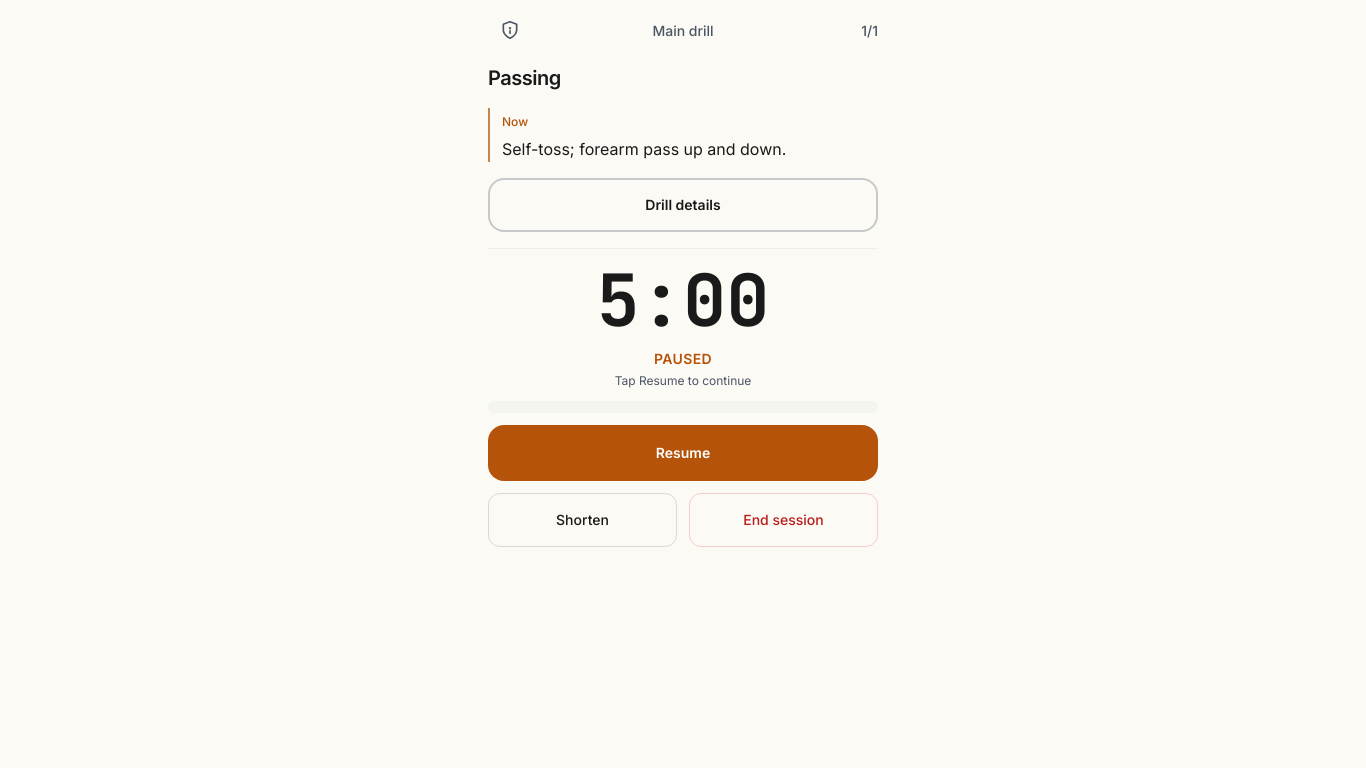
RunScreen: Run Face cue detail › long cue: keeps one live cue and exposes the full cue in the Drill details overlay
The width and height of the screenshot is (1366, 768).
Expected: the text "Now" is shown, [502,114,528,129]
Expected: the text "Self-toss; forearm pass up and down." is shown, [502,139,786,159]
Click the button "Drill details" at point(683, 205), box [488,178,878,232]
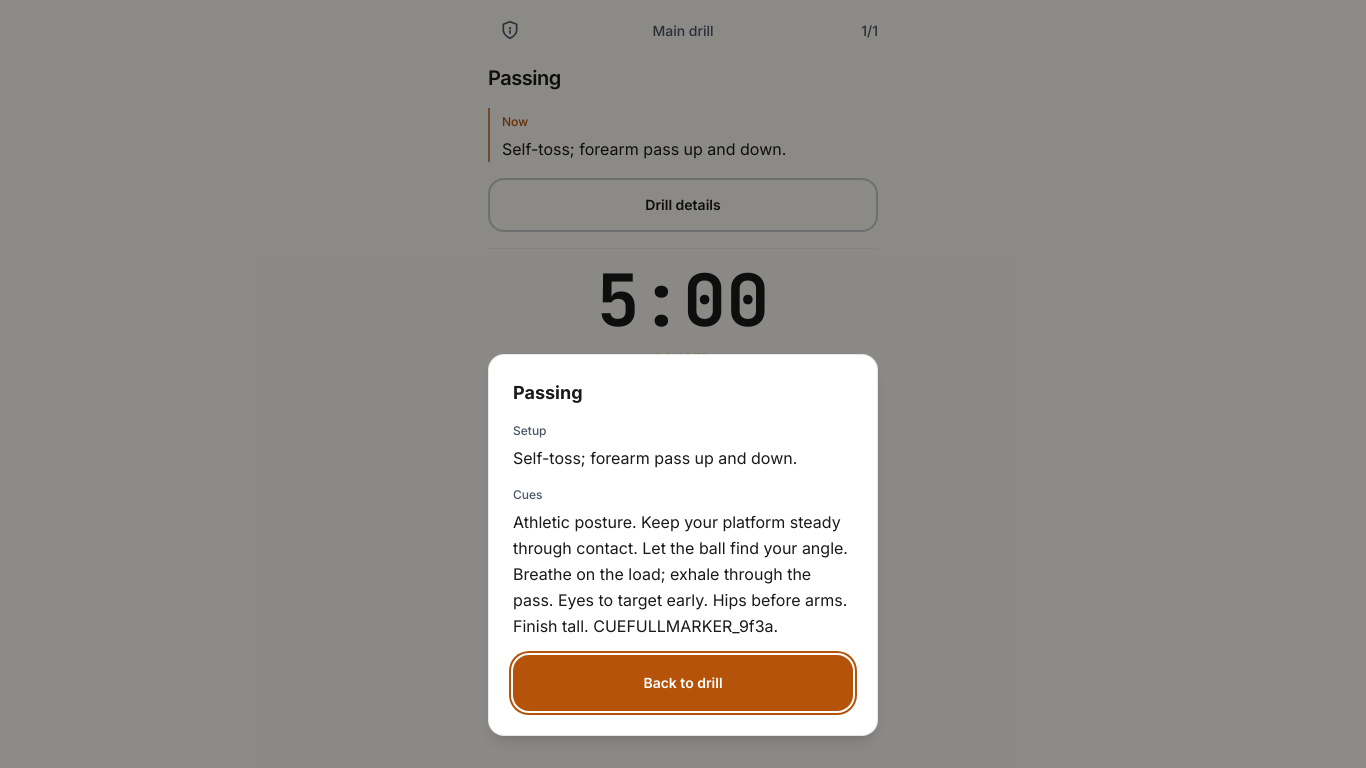
Expected: the text "CUEFULLMARKER_9f3a" is shown, [513,512,848,636]
